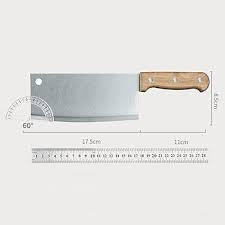Knife: (28, 71, 209, 121)
